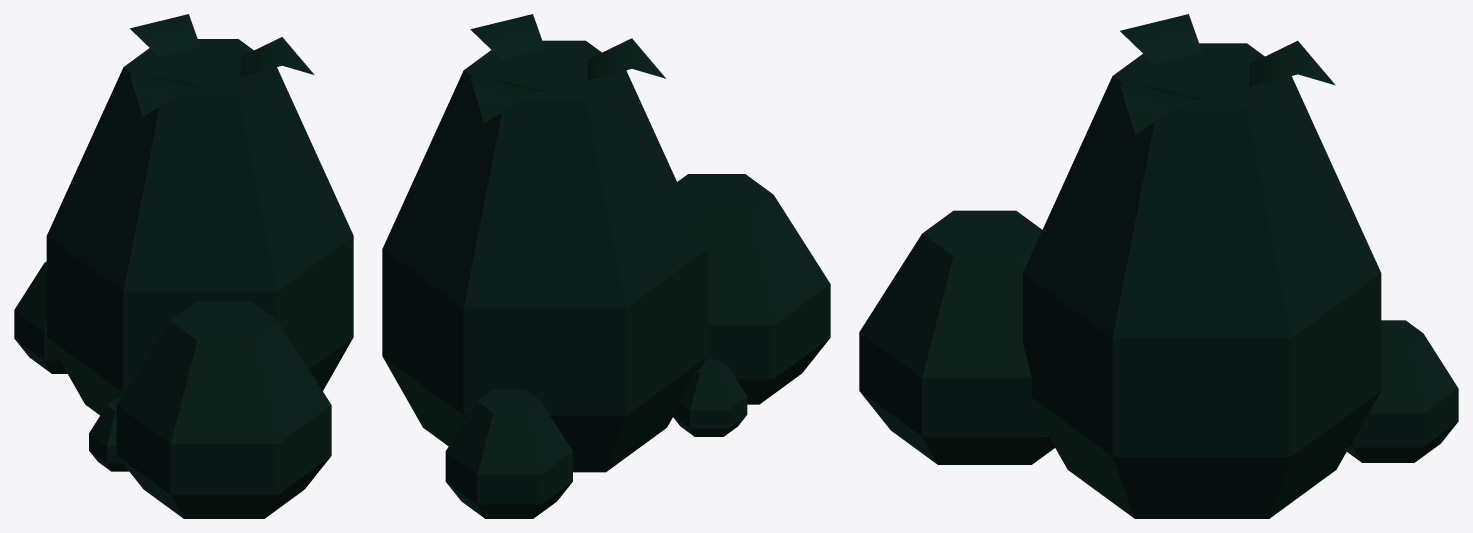
File: Bush3.fbx
3 renders of one model, left to right at view 1: azimuth 30°, elevation 25°; view 2: azimuth 150°, elevation 25°; view 3: azimuth 270°, elevation 25°, orthographic. The views are drawn at different scales.
Parts seen in each view (by area): view 1: mergedBlocks; view 2: mergedBlocks; view 3: mergedBlocks.
Part boxes in pixels (left/top/right/bottom): mergedBlocks: left=14, top=14, right=353, bottom=518; mergedBlocks: left=382, top=14, right=830, bottom=518; mergedBlocks: left=859, top=14, right=1458, bottom=518.
Size of the model in its own units: 11.5 by 14.66 by 19.3.
